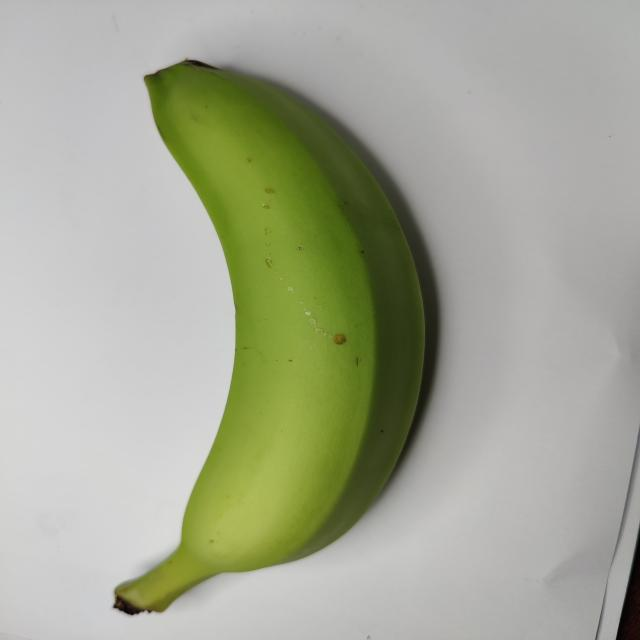raw: (53, 34, 494, 612)
